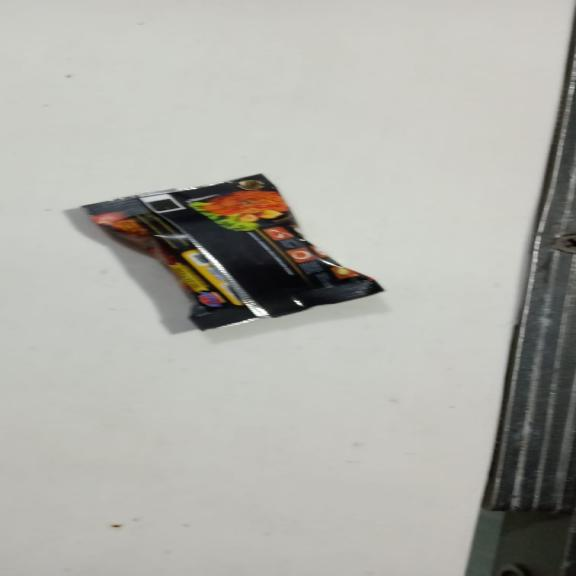Plastik: (84, 172, 390, 334)
